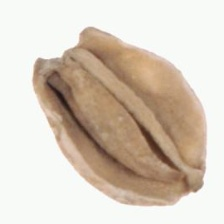L1: (31, 25, 96, 71), (168, 164, 207, 204)
L2: (32, 26, 208, 207)
